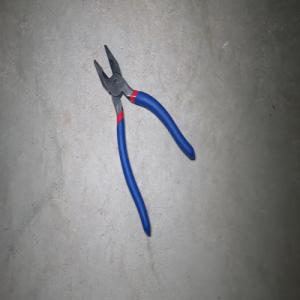Pliers: (93, 44, 195, 236)
